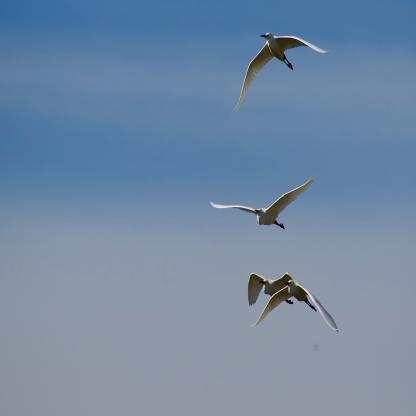bird: (233, 33, 331, 115), (210, 177, 315, 229), (250, 280, 339, 333), (248, 273, 295, 305)
